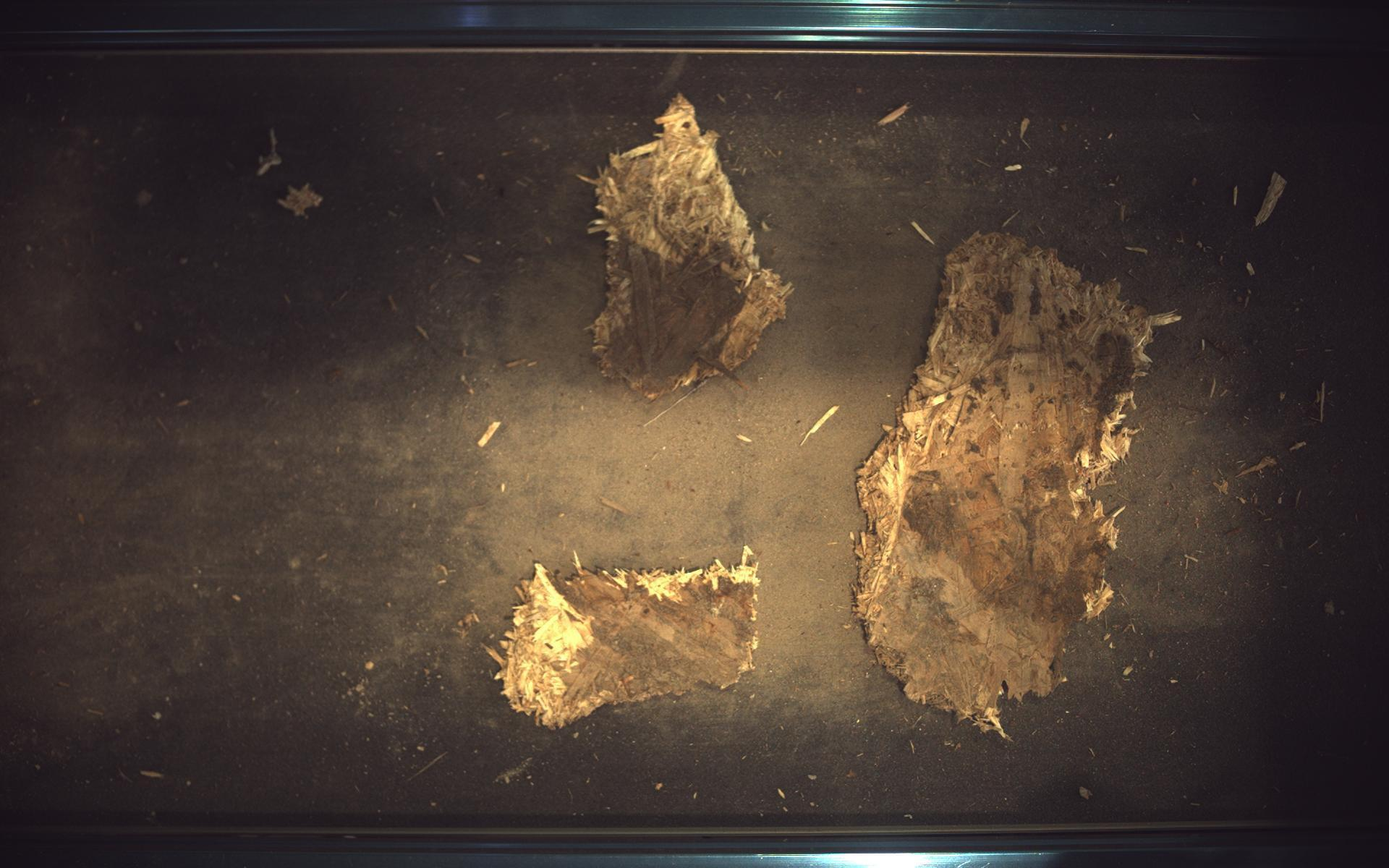wood: (856, 232, 1182, 738), (589, 93, 793, 399), (496, 548, 760, 729)
